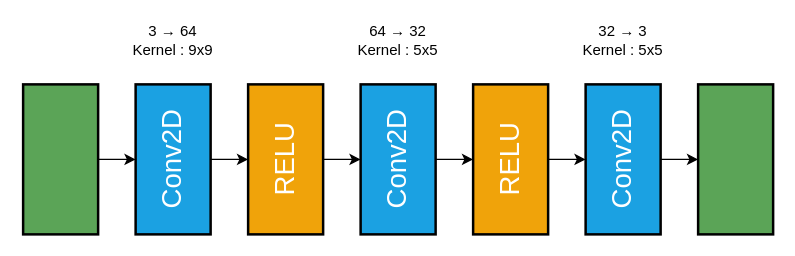
This 795x256 diagram has some shape labels left out. Each missing label, with the box of its shape:
Input: (21, 82, 99, 235)
Ouput: (696, 82, 774, 235)
